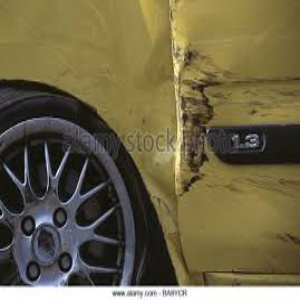door_scratch: (172, 47, 300, 119)
